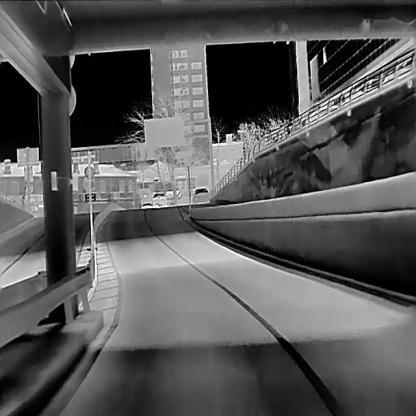car: (190, 185, 209, 203), (150, 192, 168, 208), (139, 202, 152, 208)
